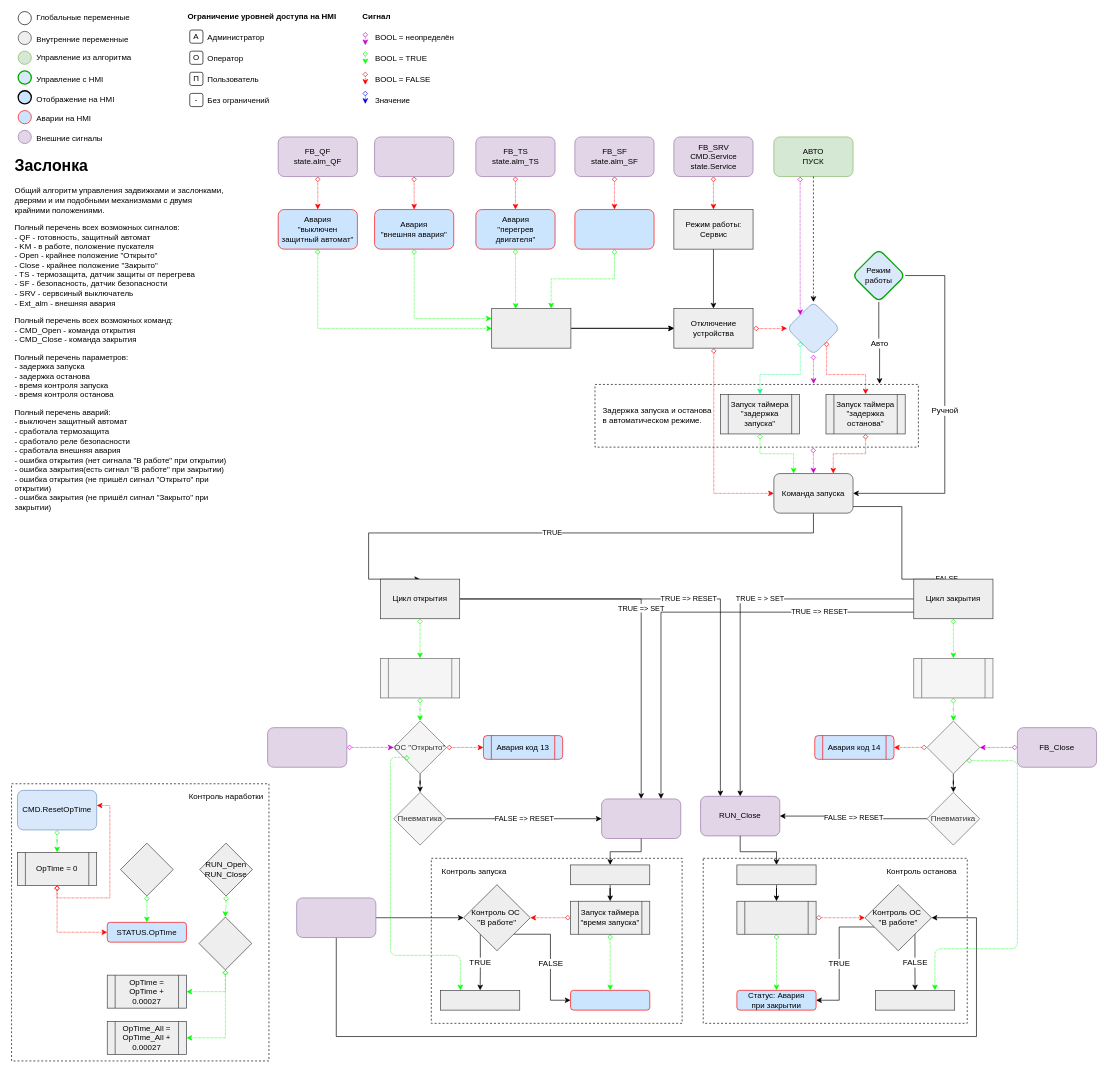
Some shapes in this 1108 by 1073 pixel diagram are drawn without their labels. The shapes that lost their labels are listed below. From the top down, each one's centre as x and y in pixels, then its label:
point (414, 156): Ext_alm state.alm_Ext
point (614, 229): Авария "сработало реле безопасности"
point (531, 328): Авария общая CMD.Alarm state.Alarm
point (813, 328): РУЧНОЙ ПУСК
point (420, 678): Таймер ОС "Открыто"
point (953, 678): Таймер ОС "Закрыто"
point (307, 747): FB_Open
point (953, 747): ОС "Закрыто"
point (641, 818): RUN_Open
point (146, 869): OpTime >= SP_OpTime
point (610, 874): Статус: Открывается Код = 2
point (776, 874): Статус: Закрывается Код = 3
point (336, 917): FB_KM Сигнал ОС "В работе"
point (776, 917): Запуск таймера "время останова"
point (225, 943): pulse_1s
point (480, 1000): Статус: Открыто Код = 1
point (610, 1000): Статус: Авария при открытии
point (915, 1000): Статус: Закрыто Код = 0
